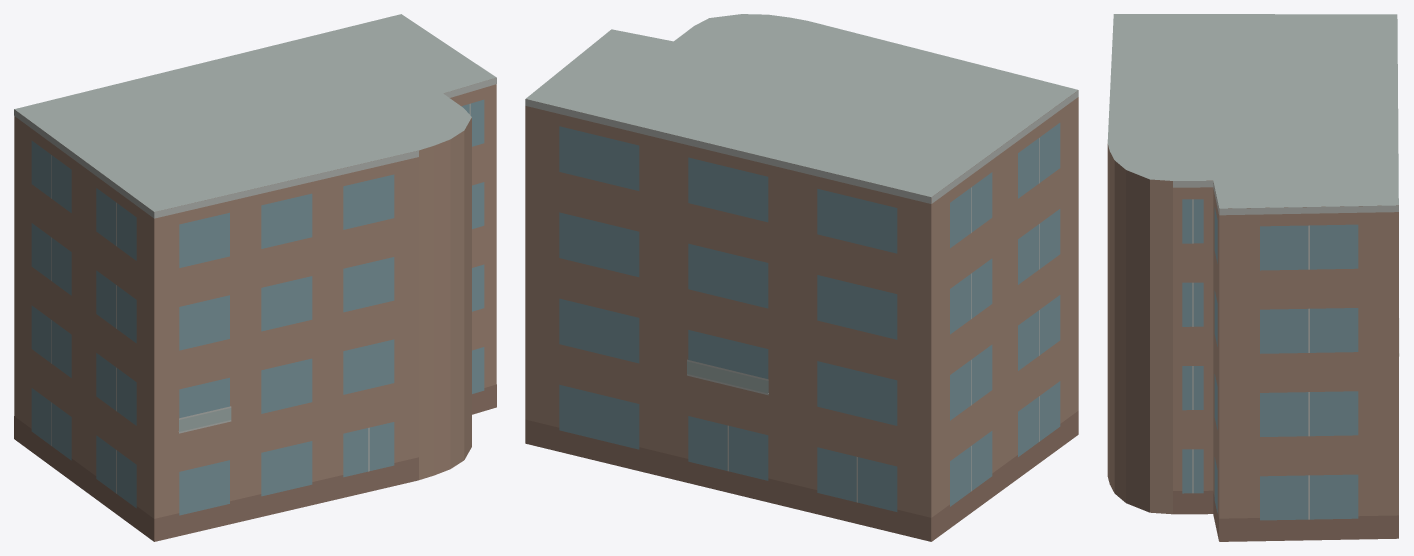
File: survey-upis-32881468.glb
The picture shows the model from 3 angles, left to right: view 1: azimuth 30°, elevation 25°; view 2: azimuth 150°, elevation 25°; view 3: azimuth 270°, elevation 25°; orthographic projection. The views are drawn at different scales.
Parts seen in each view (by area): view 1: survey-upis-32881468.tmp; view 2: survey-upis-32881468.tmp; view 3: survey-upis-32881468.tmp.
Part boxes in pixels (bbox=[...]): survey-upis-32881468.tmp: bbox=[14, 14, 496, 541]; survey-upis-32881468.tmp: bbox=[525, 14, 1078, 541]; survey-upis-32881468.tmp: bbox=[1107, 14, 1399, 541].
Bounding box in the file's own units: 15.29 × 12.2 × 9.69.
